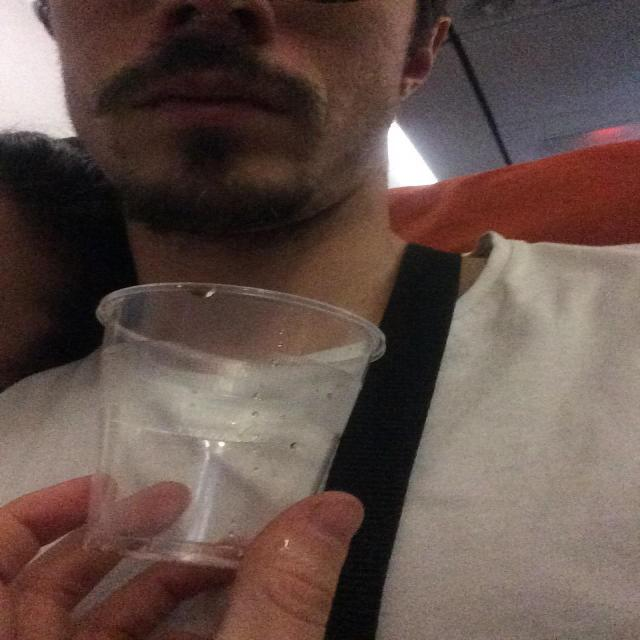Disposable plastic cup: (83, 282, 387, 570)
